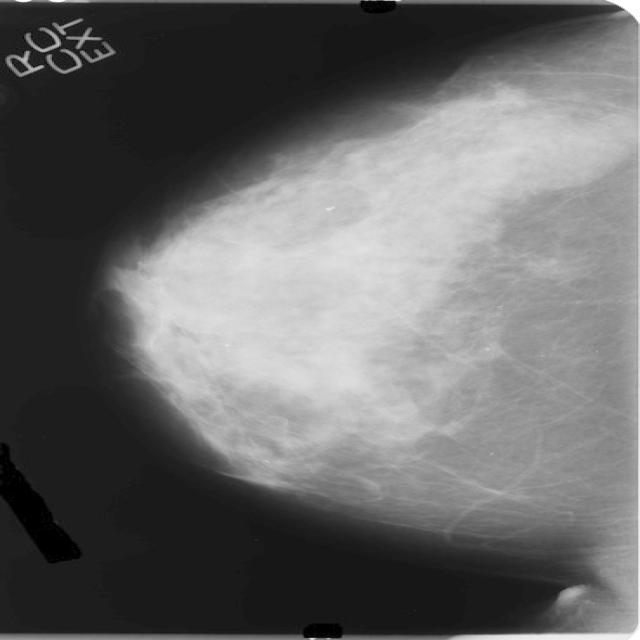tumour: (486, 80, 530, 111)
